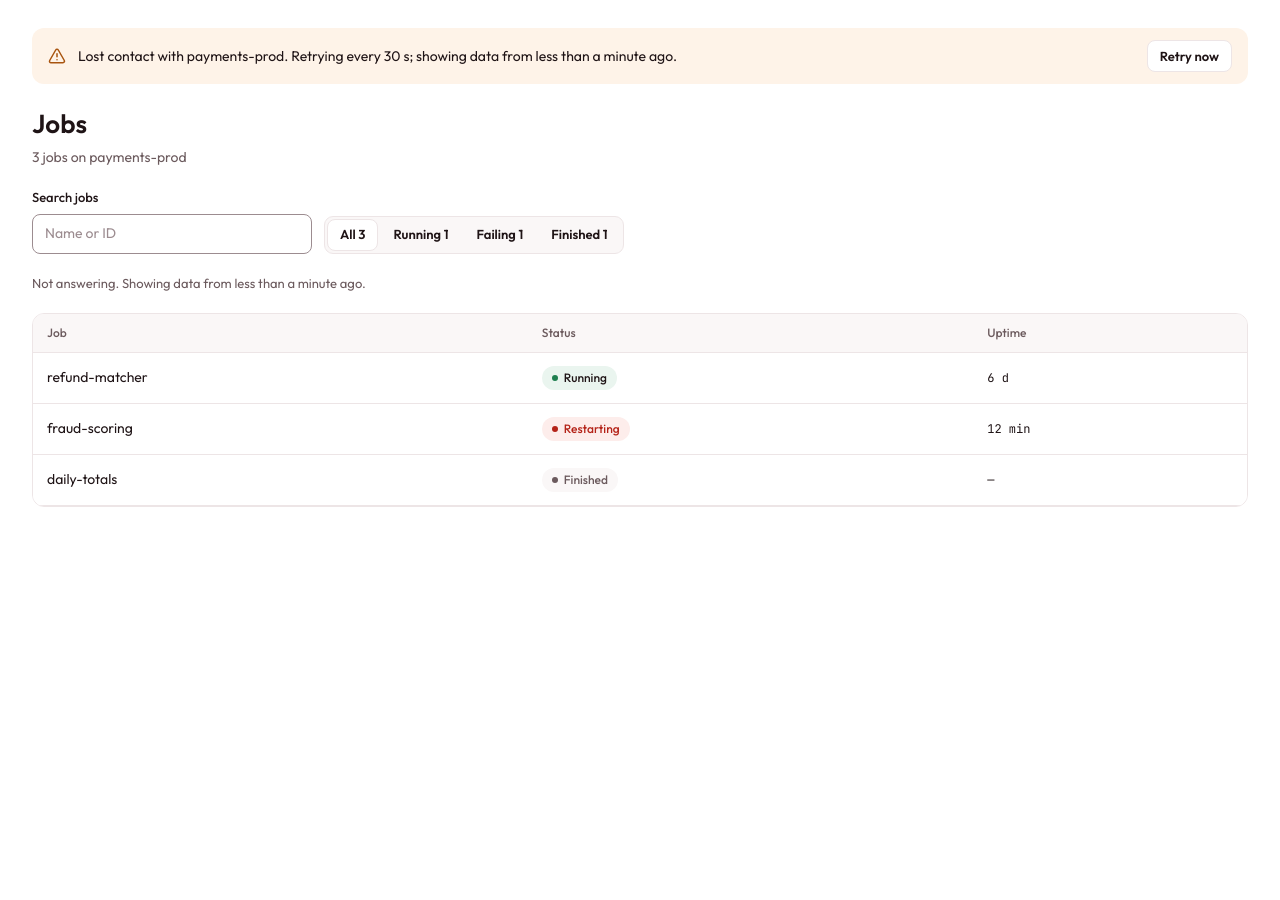
Test: audit 2 of e31e81c › #5 a Retry now that works leaves focus on the heading, not <body>
The width and height of the screenshot is (1280, 900).
Expected: the table named "Jobs" is shown, [33, 314, 1247, 506]
Expected: the text "Lost contact with payments-prod" is shown, [78, 47, 677, 65]
Click the button "Retry now" at (1189, 56), box [1147, 40, 1232, 72]
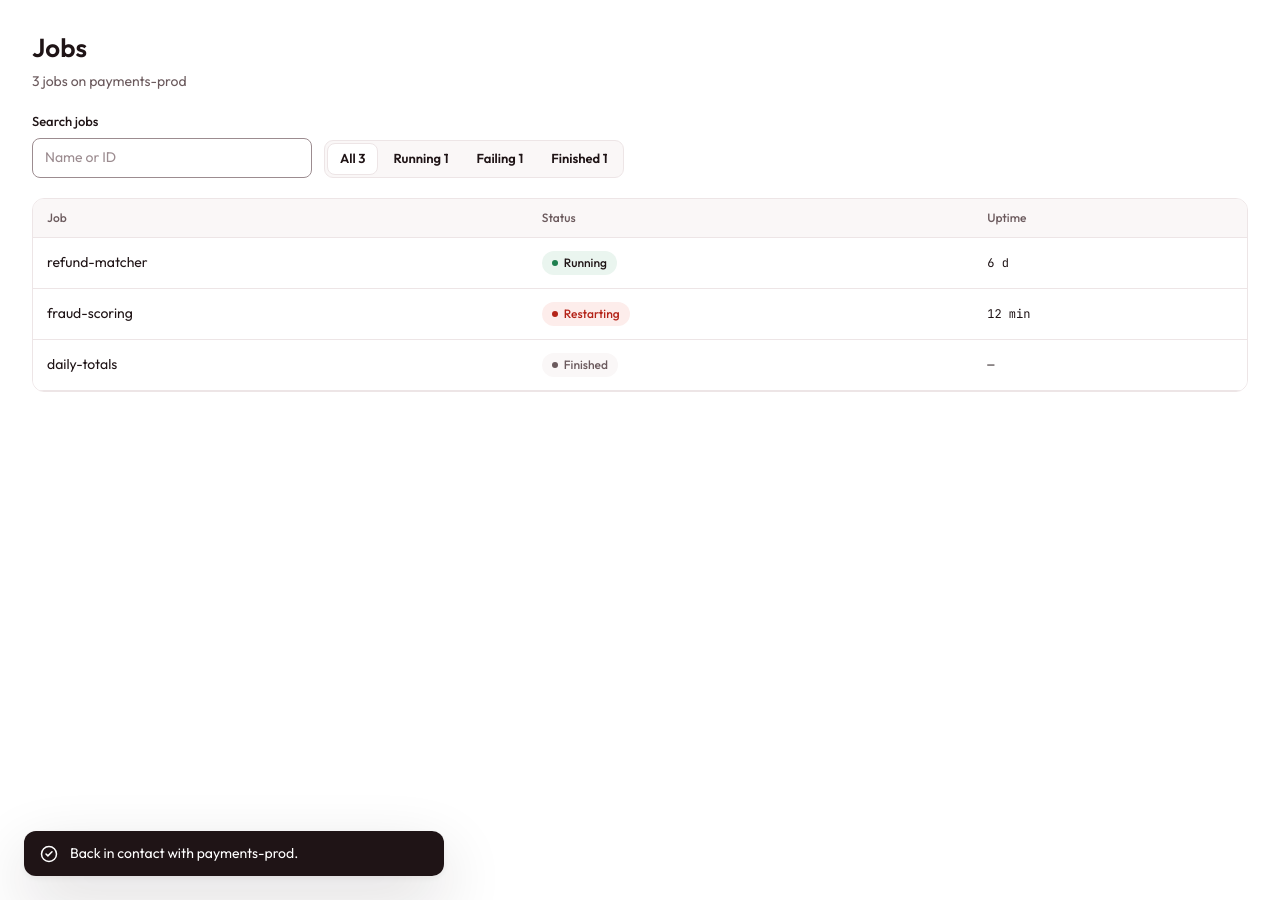
Result: the text "Lost contact" is gone
